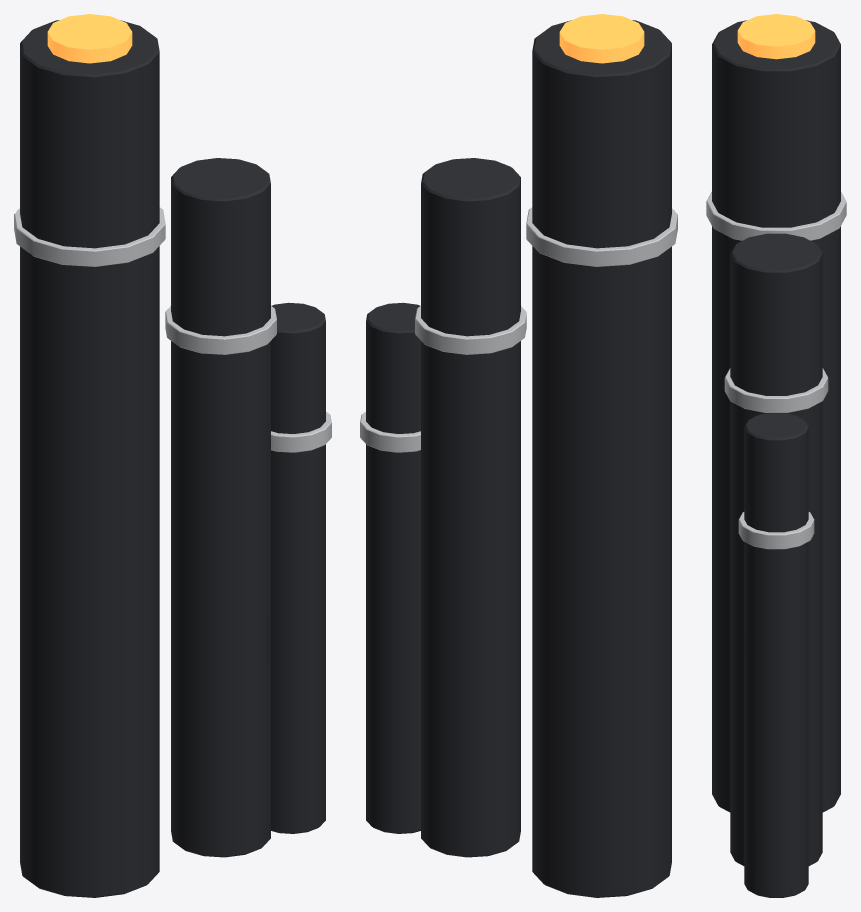
Rendered from industrial_stack.glb.
3 renders of one model, left to right at view 1: azimuth 30°, elevation 25°; view 2: azimuth 150°, elevation 25°; view 3: azimuth 270°, elevation 25°, orthographic. The views are drawn at different scales.
Visible parts, largest first — view 1: Stack0, Stack1, Stack2, StackGlow, Band0, Band1, Band2; view 2: Stack0, Stack1, Stack2, StackGlow, Band0, Band1, Band2; view 3: Stack0, Stack2, Stack1, StackGlow, Band0, Band1, Band2.
Boxes of the visible parts, box(x1,y1,x2,y2) form: Stack0: box(20, 20, 159, 897); Stack1: box(171, 158, 270, 857); Stack2: box(271, 302, 325, 833); StackGlow: box(47, 14, 132, 63); Band0: box(14, 207, 165, 266); Band1: box(165, 306, 276, 354); Band2: box(271, 412, 331, 452); Stack0: box(532, 20, 671, 897); Stack1: box(421, 158, 520, 857); Stack2: box(366, 302, 420, 833); StackGlow: box(559, 14, 644, 63); Band0: box(526, 207, 677, 266); Band1: box(415, 306, 526, 354); Band2: box(360, 412, 420, 452); Stack0: box(712, 20, 840, 812); Stack2: box(744, 413, 808, 897); Stack1: box(730, 233, 822, 865); StackGlow: box(737, 14, 815, 59); Band0: box(706, 192, 846, 240); Band1: box(724, 368, 828, 412); Band2: box(738, 512, 814, 549).
Size of the model in its own units: 3.44 by 9.15 by 1.52.
